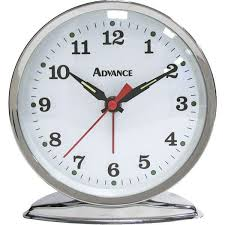alarm_clock: (7, 5, 218, 220)
